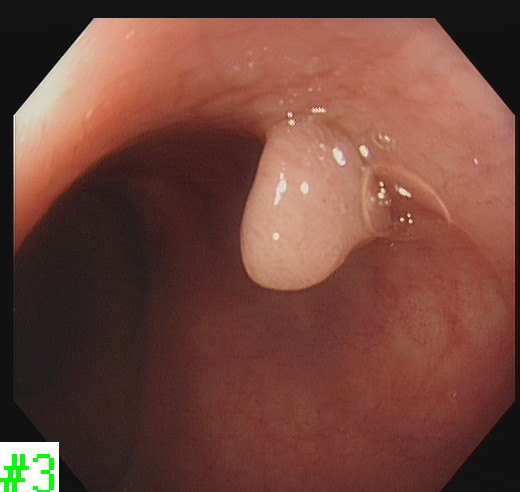adenoma: (234, 110, 396, 293)
